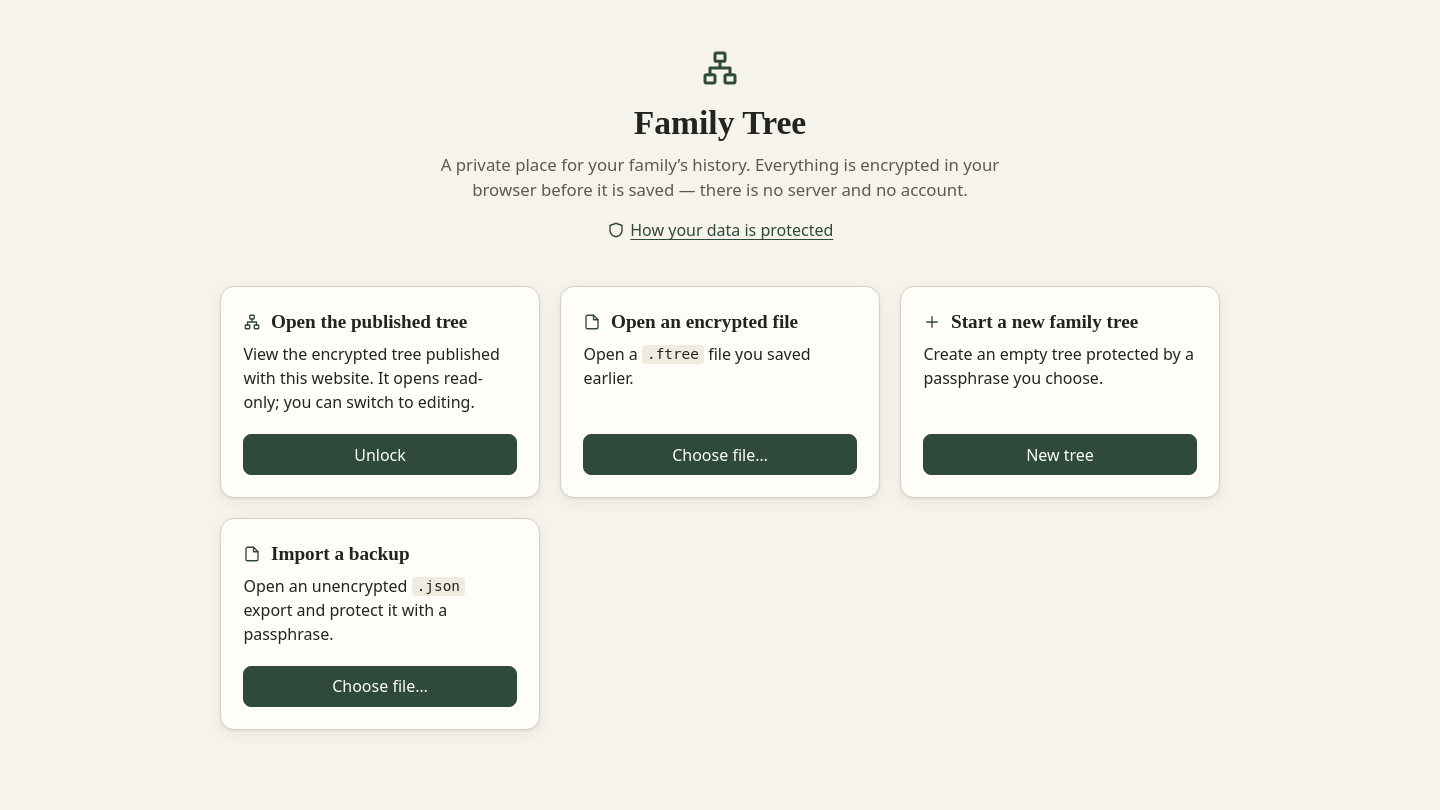
the published tree › opens view-only with both side panes collapsed
Click the button "Unlock".
click(380, 455)  # box [243,434,517,475]
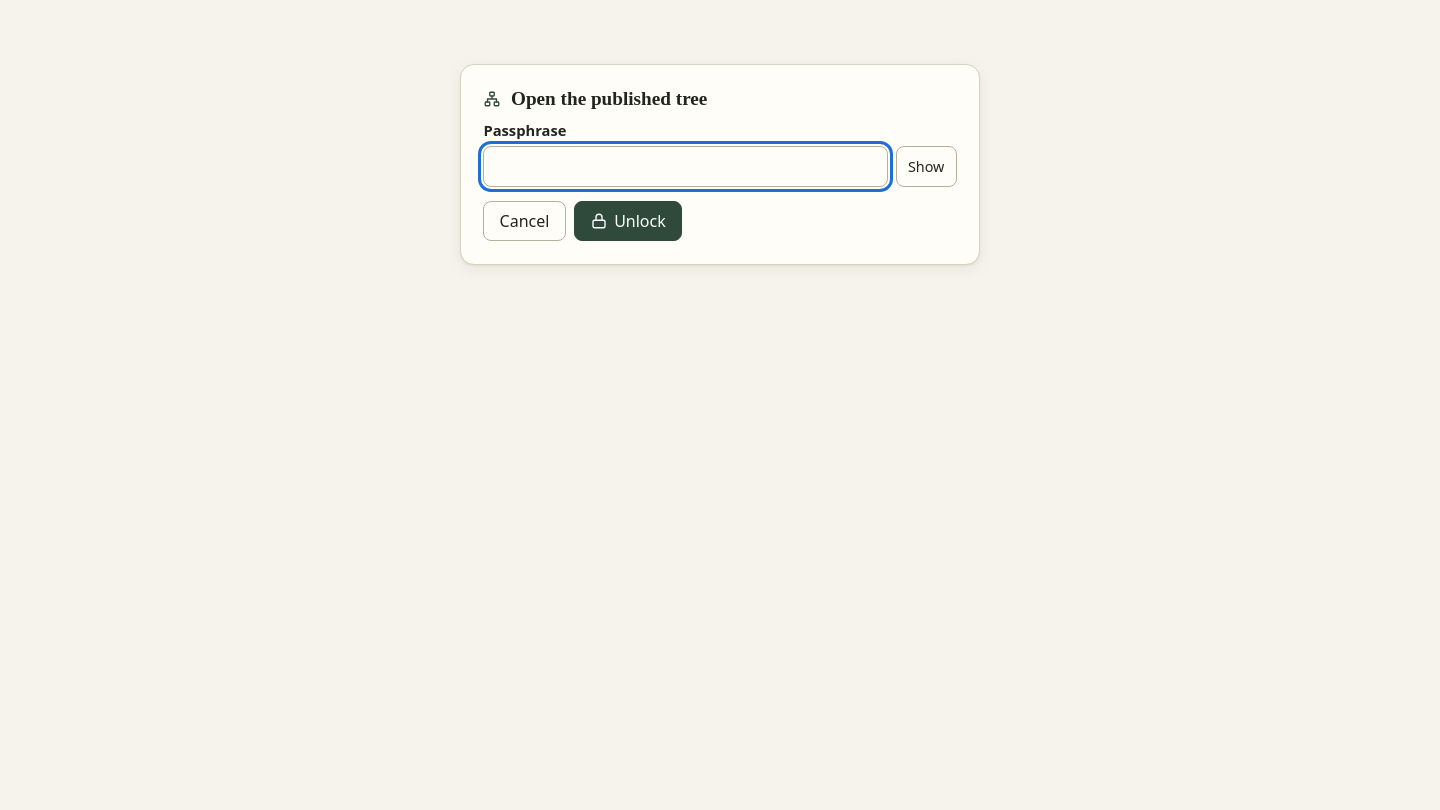
Type "harbour lantern violet oatmeal" into the password field labelled "Passphrase".
click(686, 166); type("harbour lantern violet oatmeal")  # box [483,146,888,187]
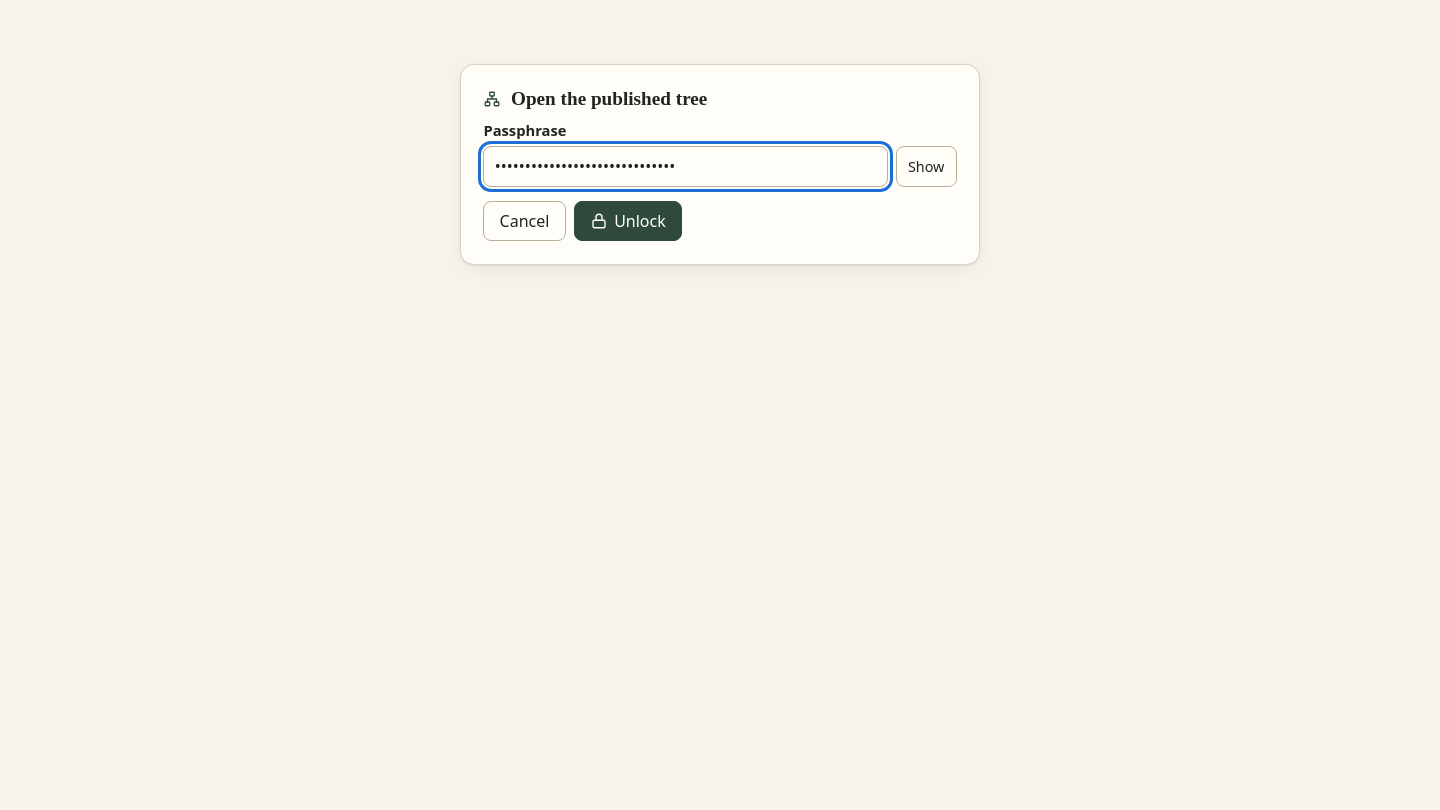
Click the button "Unlock".
click(628, 221)  # box [574,201,682,241]
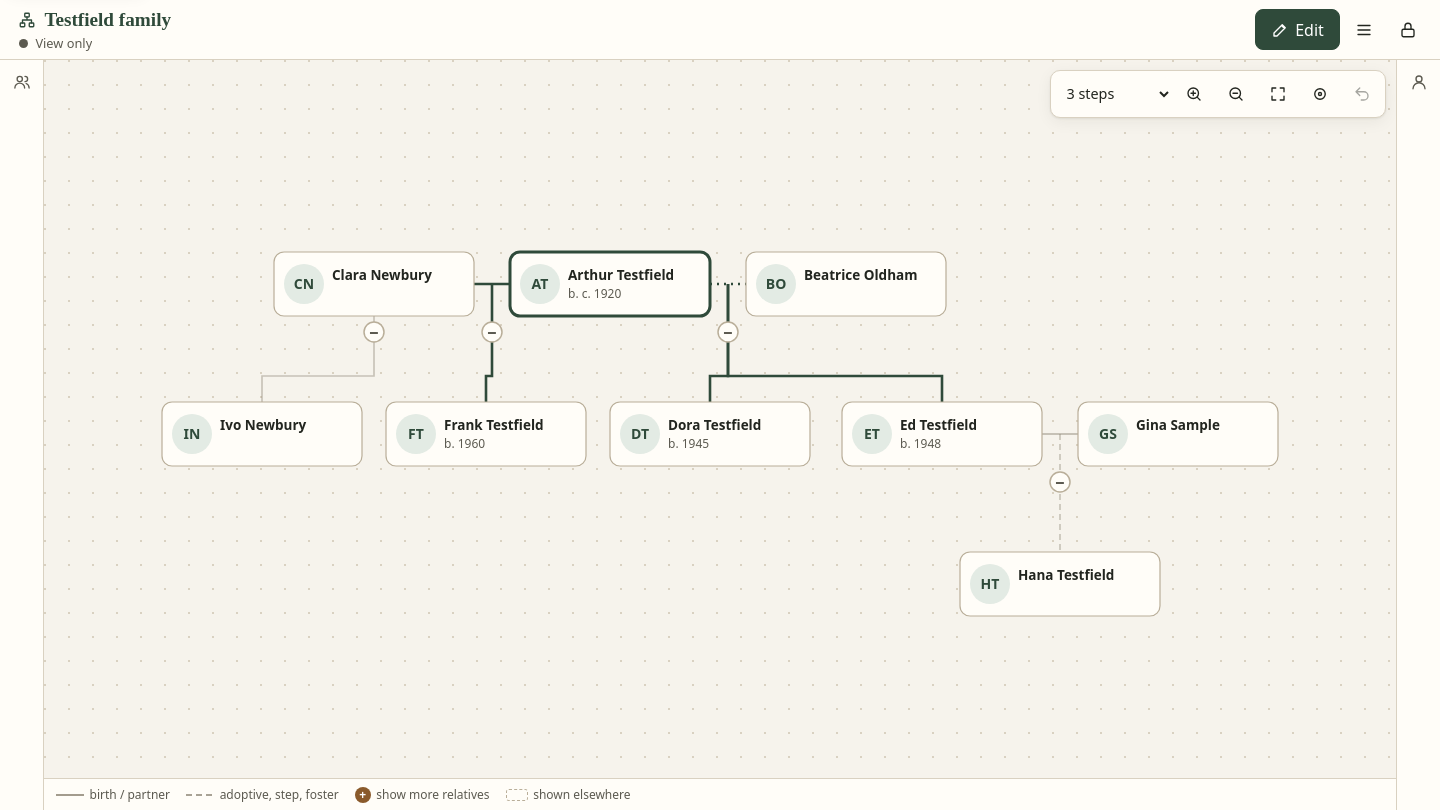
Result: the text "View only" is shown at [35,34,92,53]
Result: the button named "Show people ([)" is shown
Result: the button named "Show person (])" is shown at [1397,60,1439,809]
Click the button named "Show people ([)".
click(22, 435)  # box [0,60,43,809]
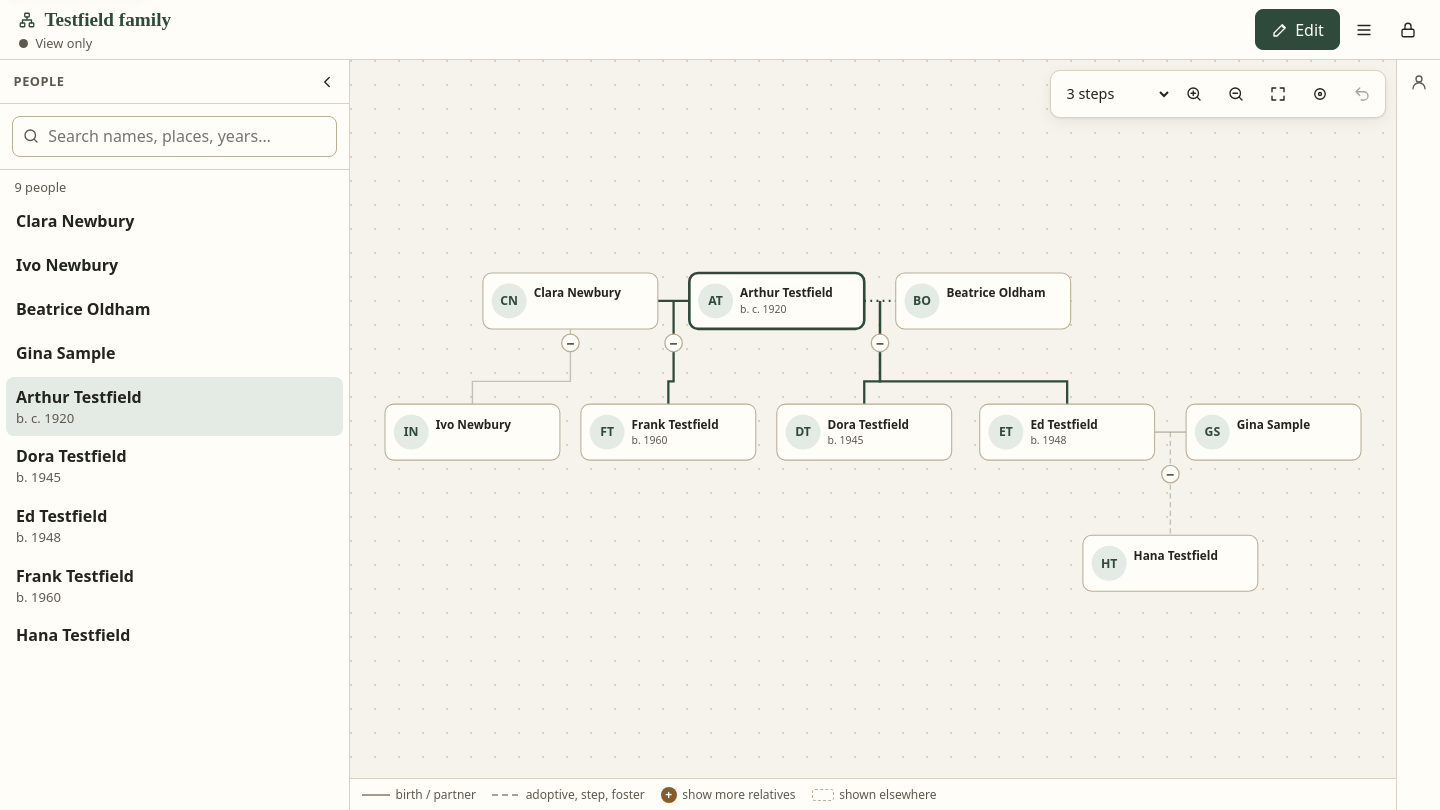
Click the button "Arthur Testfield b. c. 1920".
click(79, 397)  # box [6,377,343,436]
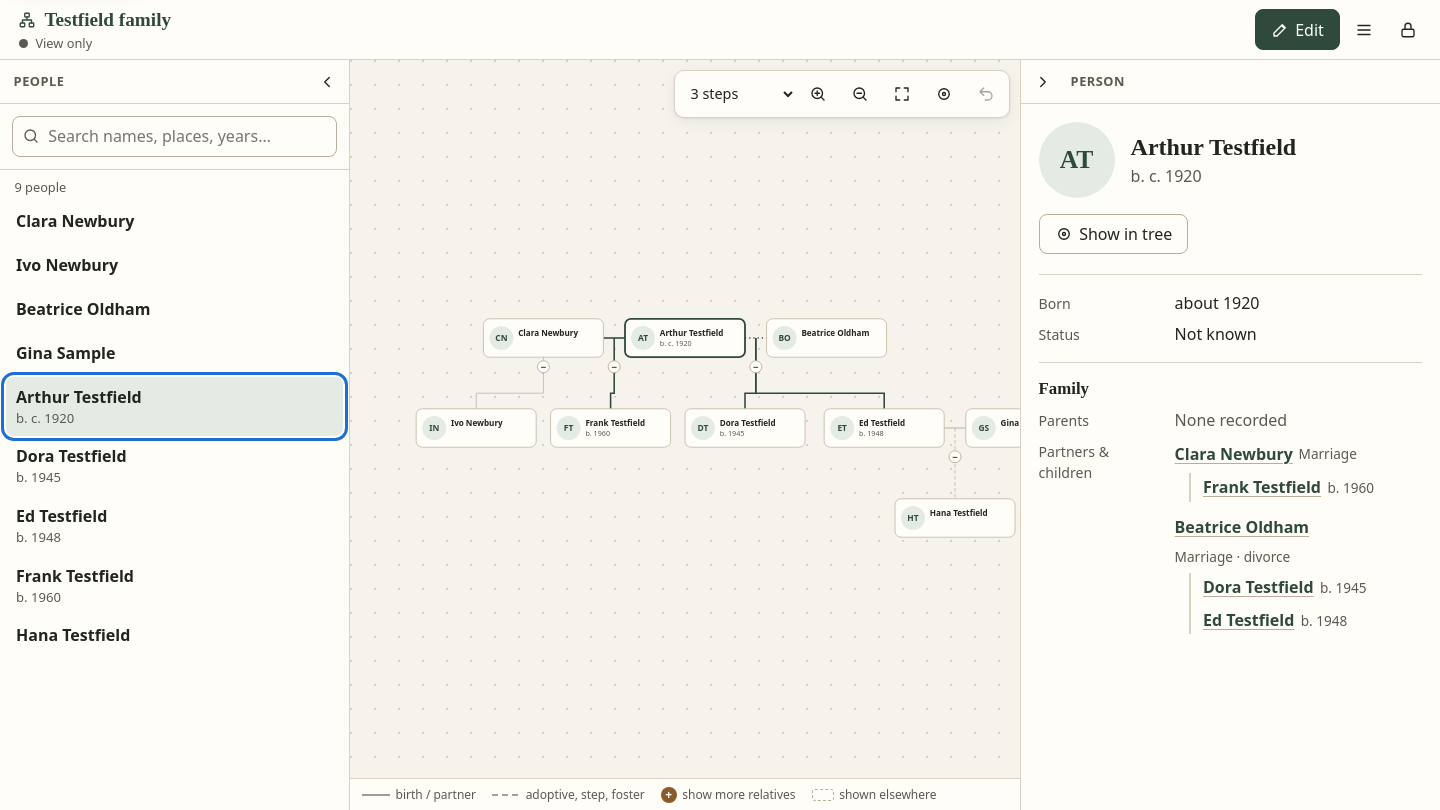
Result: the heading "Arthur Testfield" is shown at [1131,132,1296,162]
Result: the button "Show in tree" is shown at [1039,214,1188,254]
